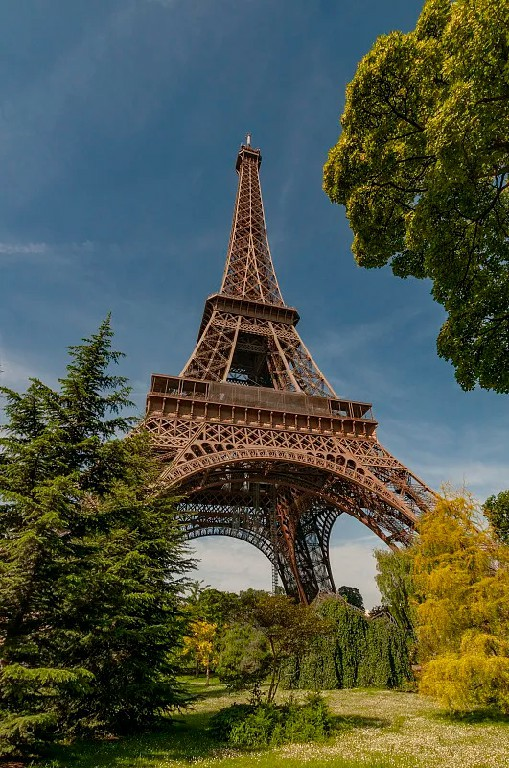Eiffel: (102, 132, 488, 616)
